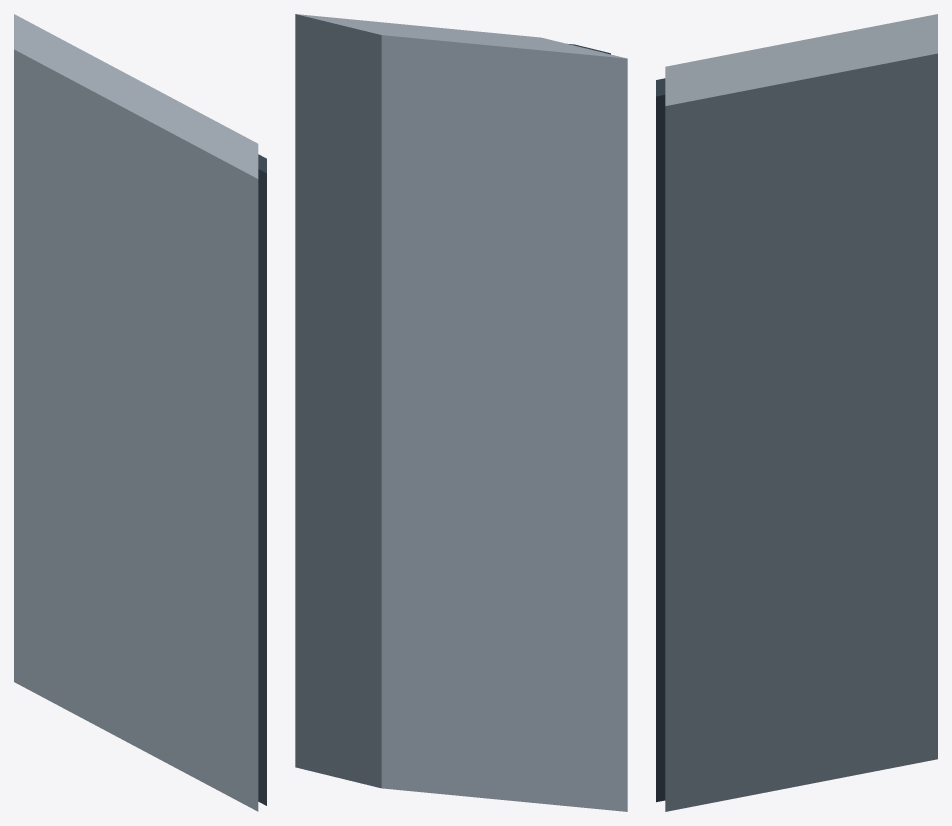
The model's file is Window_FrameV.gltf.
The picture shows the model from 3 angles, left to right: view 1: azimuth 90°, elevation 25°; view 2: azimuth 150°, elevation 25°; view 3: azimuth 270°, elevation 25°; orthographic projection. The views are drawn at different scales.
Visible parts, largest first — view 1: Window_FrameV_baked; view 2: Window_FrameV_baked; view 3: Window_FrameV_baked.
Part boxes in pixels (box(x1,y1,x2,y2)): Window_FrameV_baked: box(14, 14, 266, 811); Window_FrameV_baked: box(295, 14, 627, 811); Window_FrameV_baked: box(656, 14, 937, 811).
Size of the model in its own units: 0.26 by 1.14 by 0.362.
